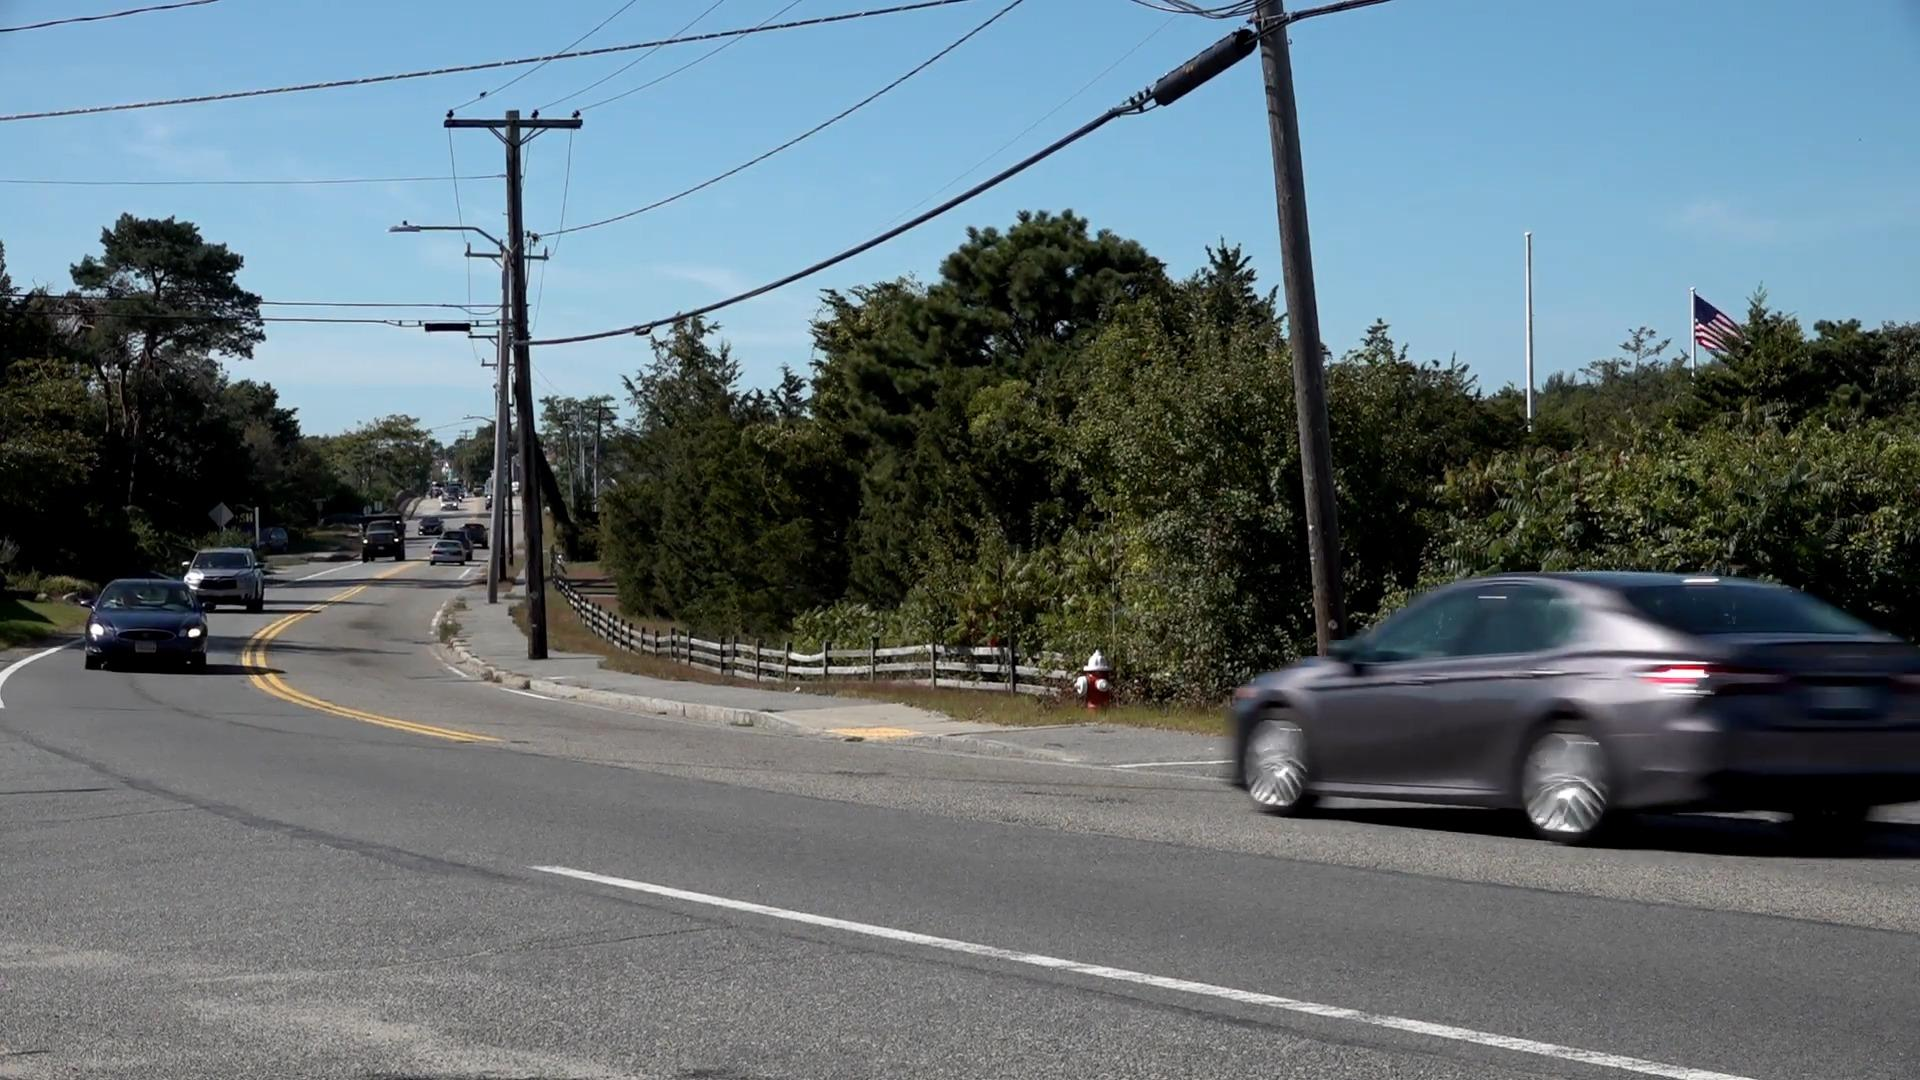sedans: (1224, 569, 1920, 845), (78, 573, 210, 679)
